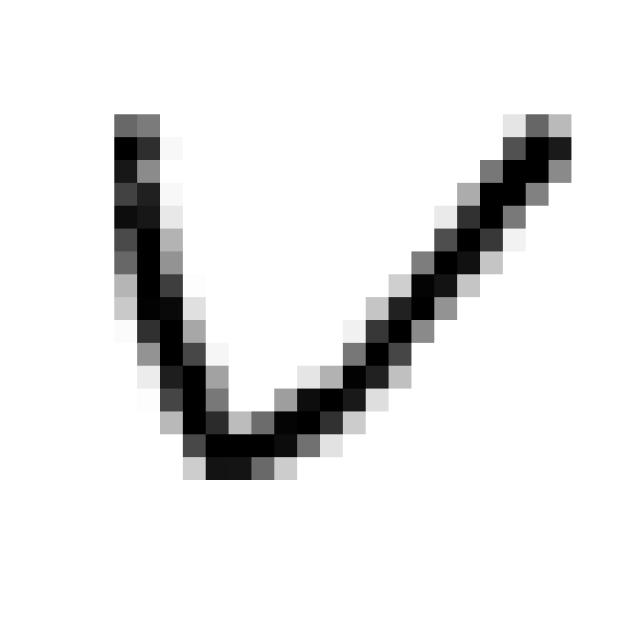7 -seven-: (80, 78, 595, 497)
